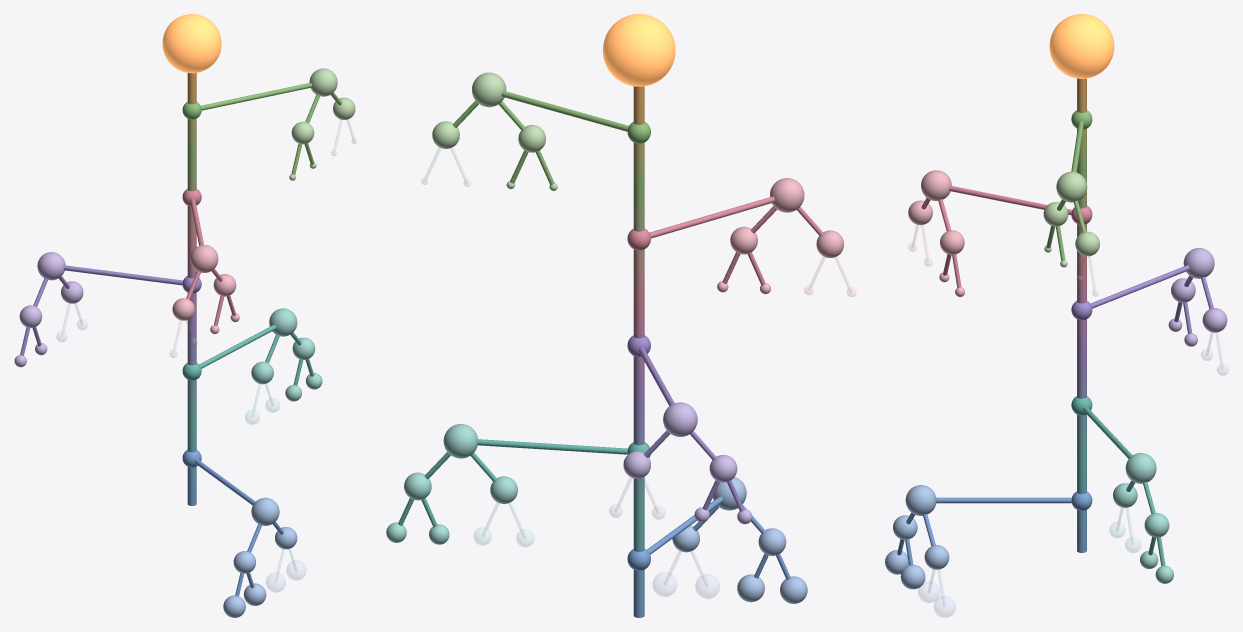
Rendered from xgboost-3d.glb.
The picture shows the model from 3 angles, left to right: view 1: azimuth 30°, elevation 25°; view 2: azimuth 150°, elevation 25°; view 3: azimuth 270°, elevation 25°; orthographic projection. The views are drawn at different scales.
Visible parts, largest first — view 1: additive_column, root (×5), final_prediction, add_link_3, add_link_5, add_link_2; view 2: additive_column, root (×5), final_prediction, add_link_2, add_link_5, add_link_4; view 3: root (×5), split (×7), final_prediction, additive_column, add_link_1, add_link_3, add_link_4, leaf.
Part boxes in pixels (box(x1,y1,x2,y2)): additive_column: box(187, 73, 196, 505); root (×5): box(37, 68, 337, 525); final_prediction: box(162, 14, 221, 73); add_link_3: box(64, 265, 182, 285); add_link_5: box(201, 82, 312, 110); add_link_2: box(199, 324, 276, 368); additive_column: box(633, 86, 644, 617); root (×5): box(443, 72, 804, 510); final_prediction: box(603, 14, 675, 86); add_link_2: box(477, 439, 627, 454); add_link_5: box(501, 91, 628, 131); add_link_4: box(649, 196, 774, 238); root (×5): box(905, 170, 1214, 515); split (×7): box(908, 200, 1227, 569); final_prediction: box(1049, 14, 1114, 78); additive_column: box(1077, 78, 1086, 552); add_link_1: box(936, 497, 1071, 503); add_link_3: box(1090, 265, 1189, 308); add_link_4: box(949, 185, 1072, 215); leaf: box(900, 564, 925, 589).
Size of the model in its own units: 0.2497 by 0.413 by 0.2224.
